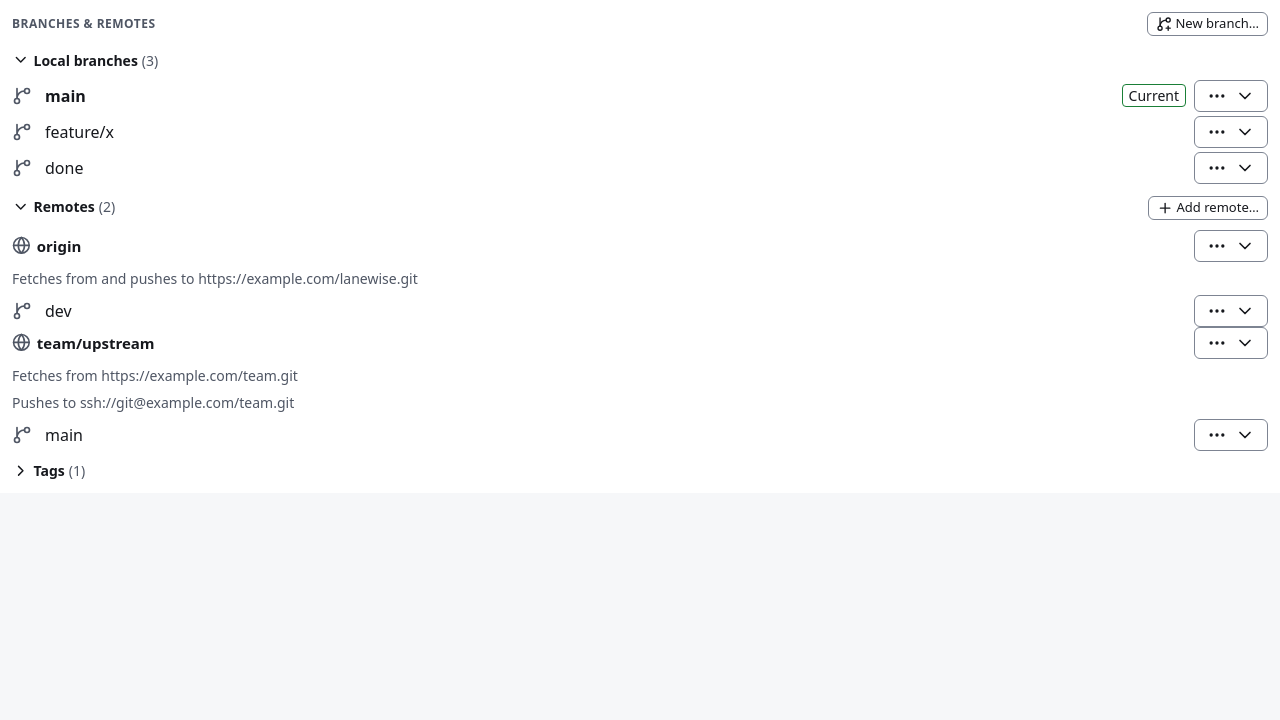
Test: with no commit selected, a new branch starts at HEAD, as the dialog says
Click the button "New branch…": click(1208, 24) [1147,12,1268,36]
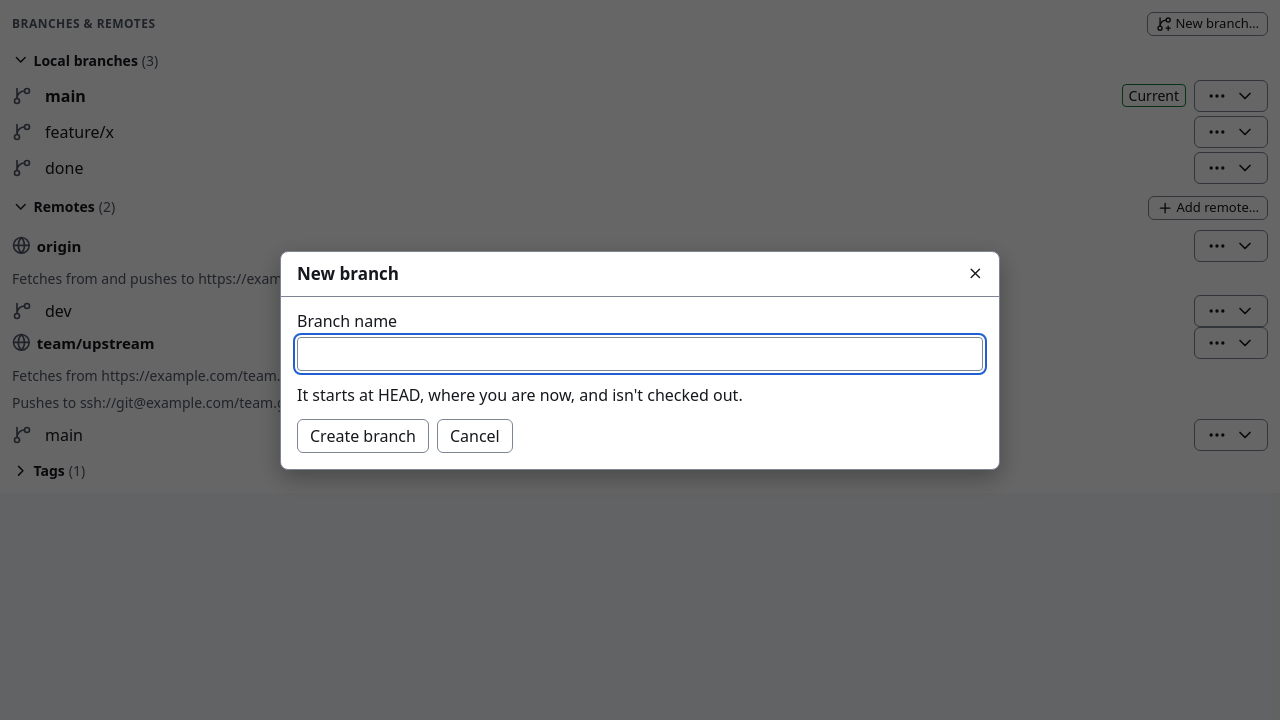
Check: the dialog "New branch" shows "It starts at HEAD, where you are now, and isn't checked out.", box [297,384,743,406]
